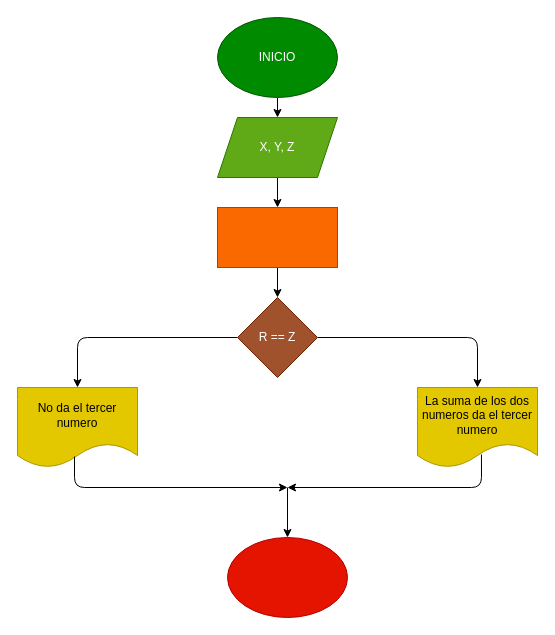
Image size: 555x635. Some labels were removed from this diagram. The shapes that lost their labels are listed below. From the top down, each one's centre as x and y in pixels, then its label:
At (277,237): "R = (X + Y)".
At (287,577): "FIN".
